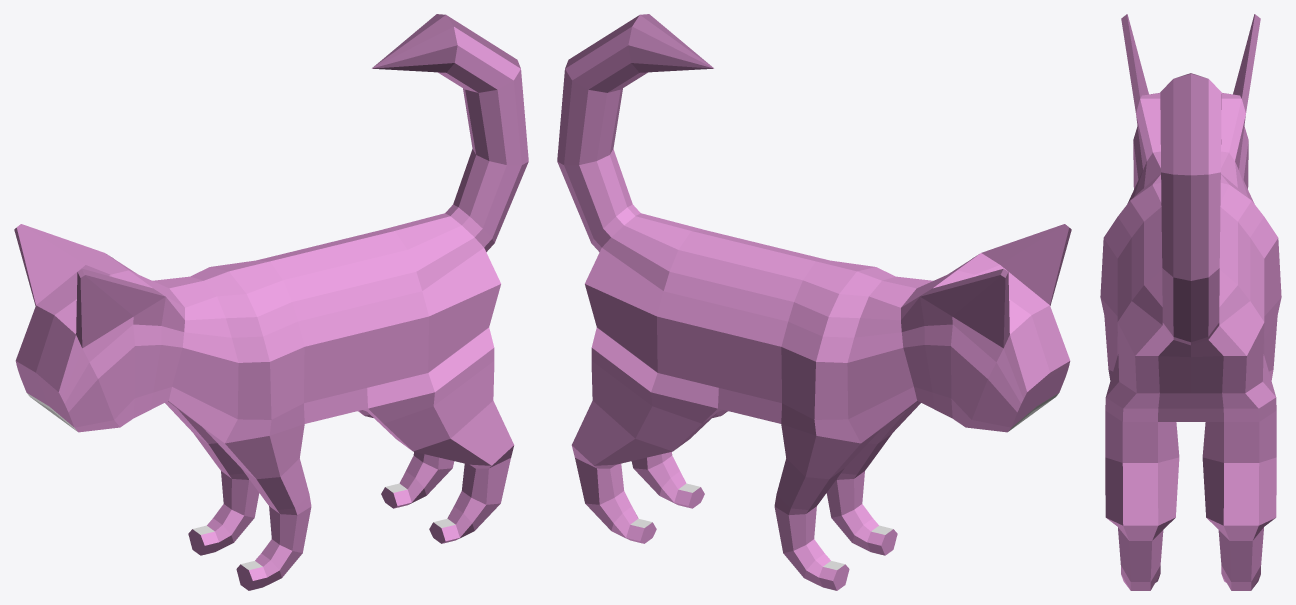
File: GAto1.fbx
3 views of the same model, side by side, from view 1: azimuth 30°, elevation 25°; view 2: azimuth 150°, elevation 25°; view 3: azimuth 270°, elevation 25° (orthographic). The views are drawn at different scales.
Parts seen in each view (by area): view 1: Cylinder; view 2: Cylinder; view 3: Cylinder.
Part boxes in pixels (<box>): Cylinder: <box>14,14,528,590</box>; Cylinder: <box>557,14,1071,590</box>; Cylinder: <box>1100,14,1281,590</box>.
Size of the model in its own units: 297 by 290 by 91.07.
